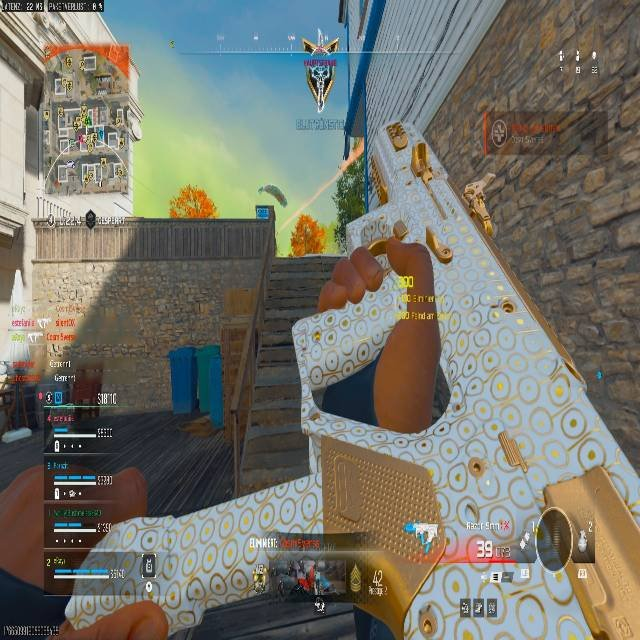player: (296, 145, 458, 435), (303, 43, 337, 110), (291, 214, 321, 256)
